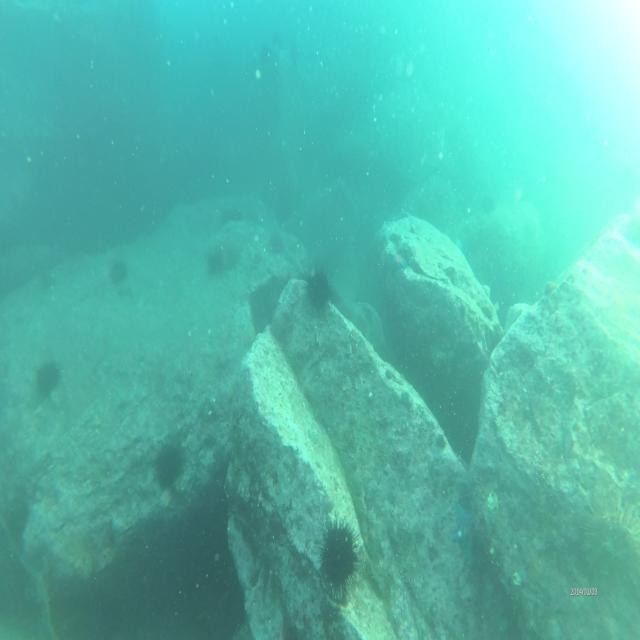echinus: (314, 511, 364, 598), (298, 256, 336, 325), (152, 442, 186, 496), (31, 354, 63, 402), (106, 252, 131, 286)
